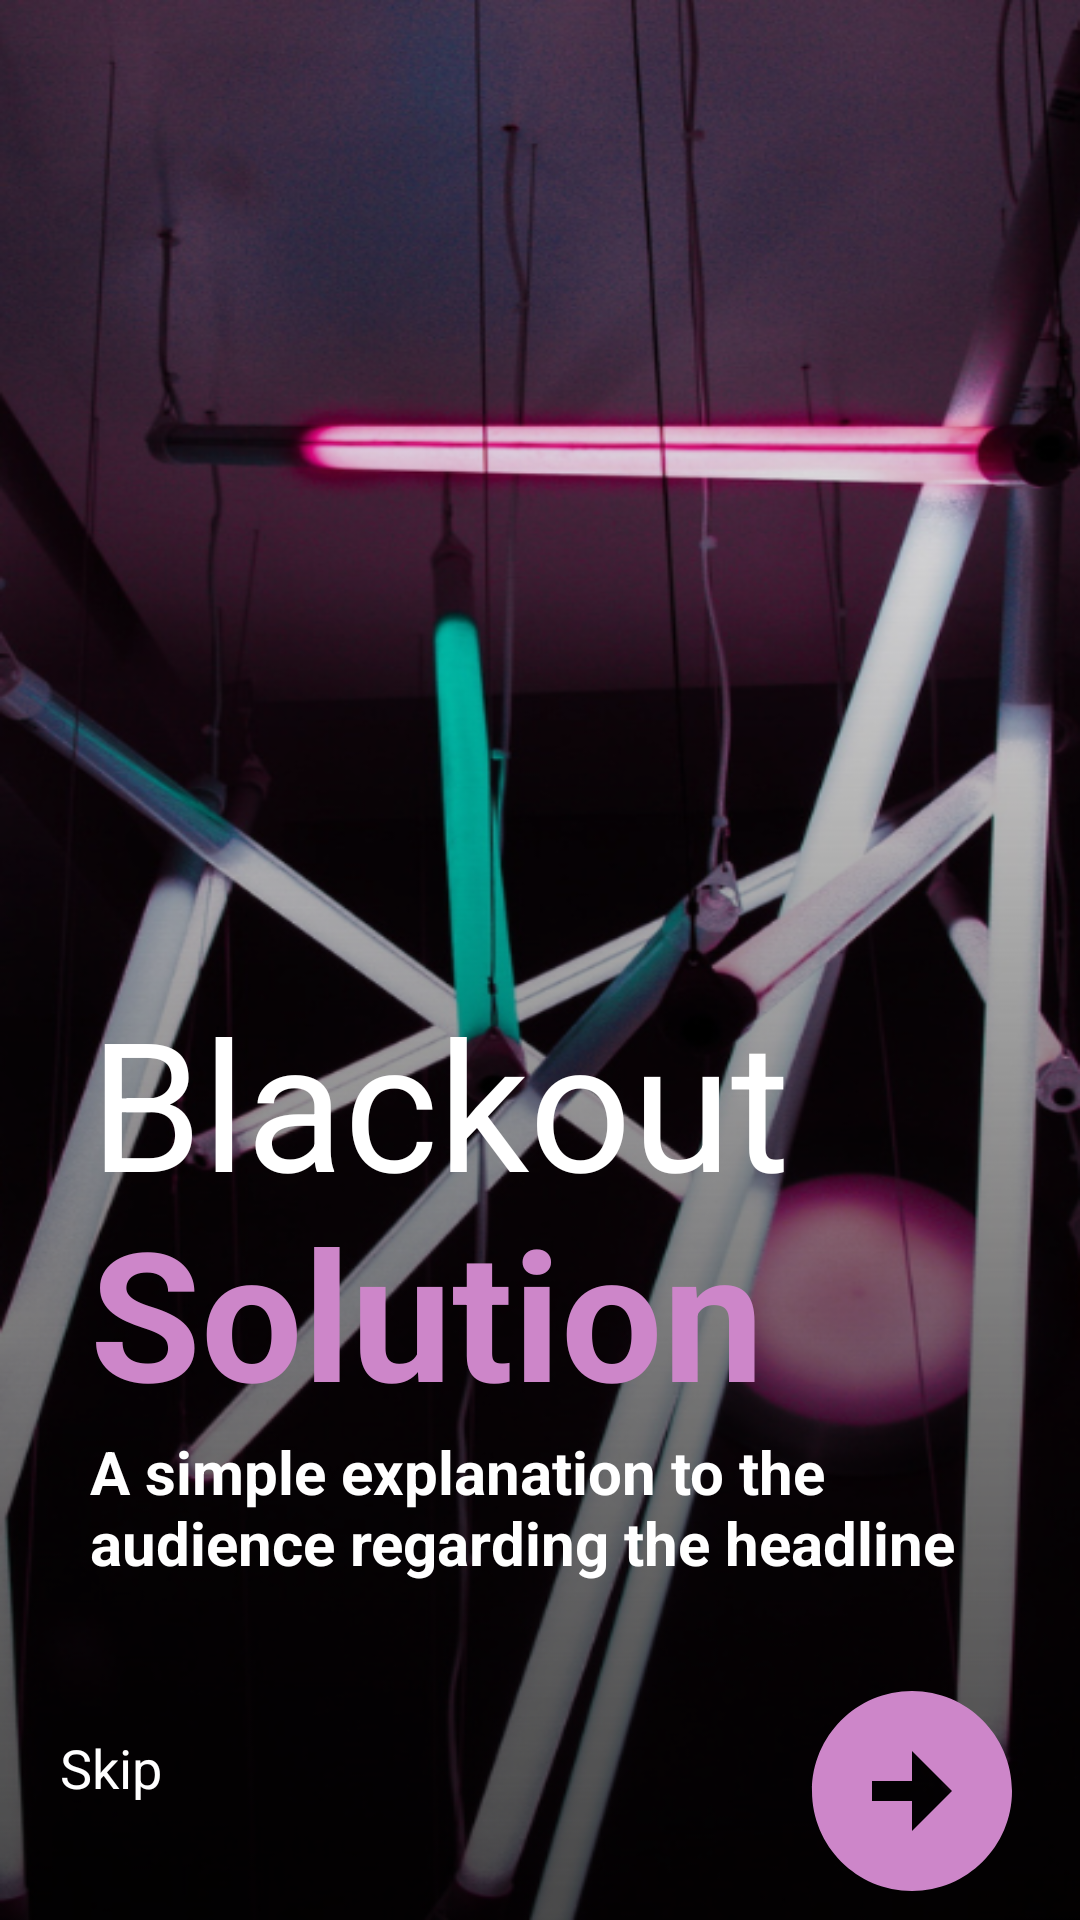

Locate icon controls on the screen. Image size 1080 × 1920, boxes as rect(x1, y1, x2, y2).
Circular Button: rect(812, 1671, 1013, 1891)
